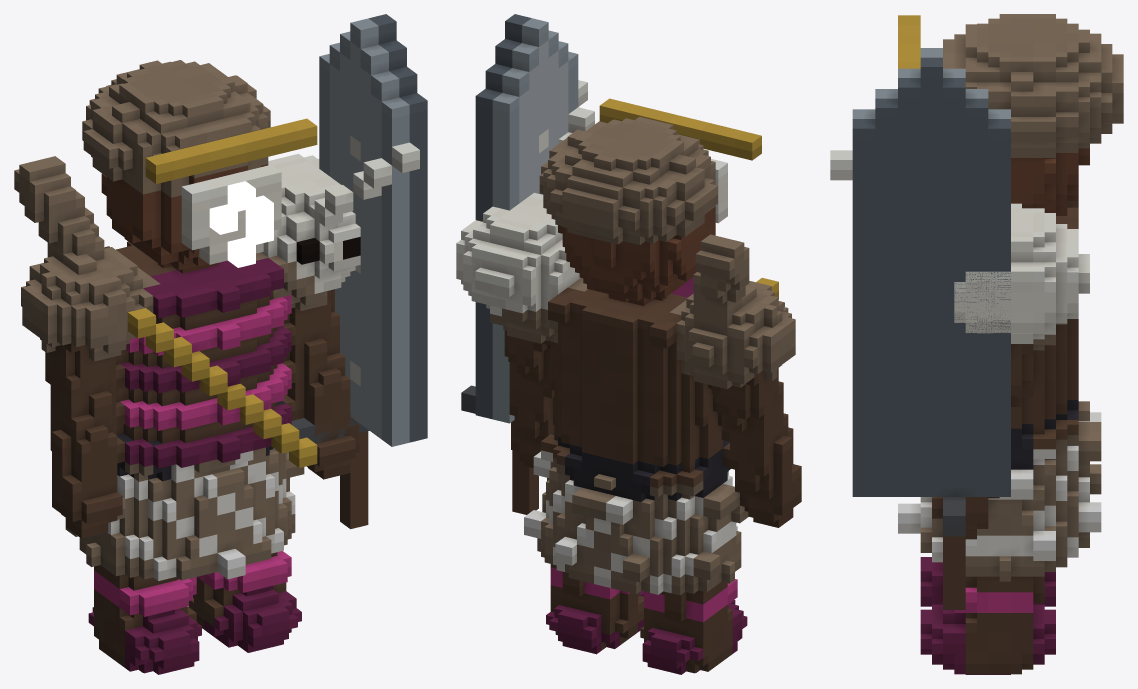
Rendered from u_tidiane__trappeur.glb.
3 views of the same model, side by side, from view 1: azimuth 30°, elevation 25°; view 2: azimuth 150°, elevation 25°; view 3: azimuth 270°, elevation 25° (orthographic). The views are drawn at different scales.
Visible parts, largest first — view 1: tidiane_body, tidiane_weapon, tidiane_glow; view 2: tidiane_body, tidiane_weapon; view 3: tidiane_body, tidiane_weapon.
Part boxes in pixels (box(x1,y1,x2,y2)): tidiane_body: box(14, 60, 419, 674); tidiane_weapon: box(291, 14, 427, 529); tidiane_glow: box(209, 181, 273, 267); tidiane_body: box(456, 80, 801, 674); tidiane_weapon: box(461, 14, 578, 514); tidiane_body: box(830, 14, 1123, 674); tidiane_weapon: box(852, 48, 1010, 609).
Bounding box in the file's own units: 1 × 1.63 × 0.65.
